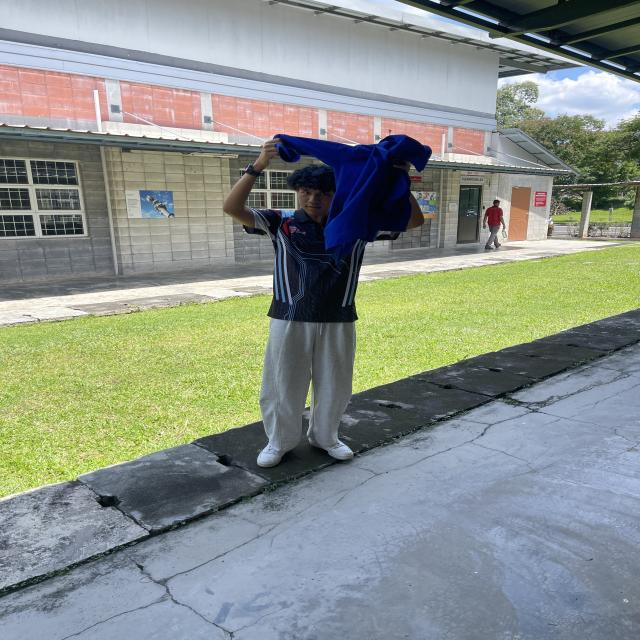person_without_labcoat: (223, 134, 431, 468)
